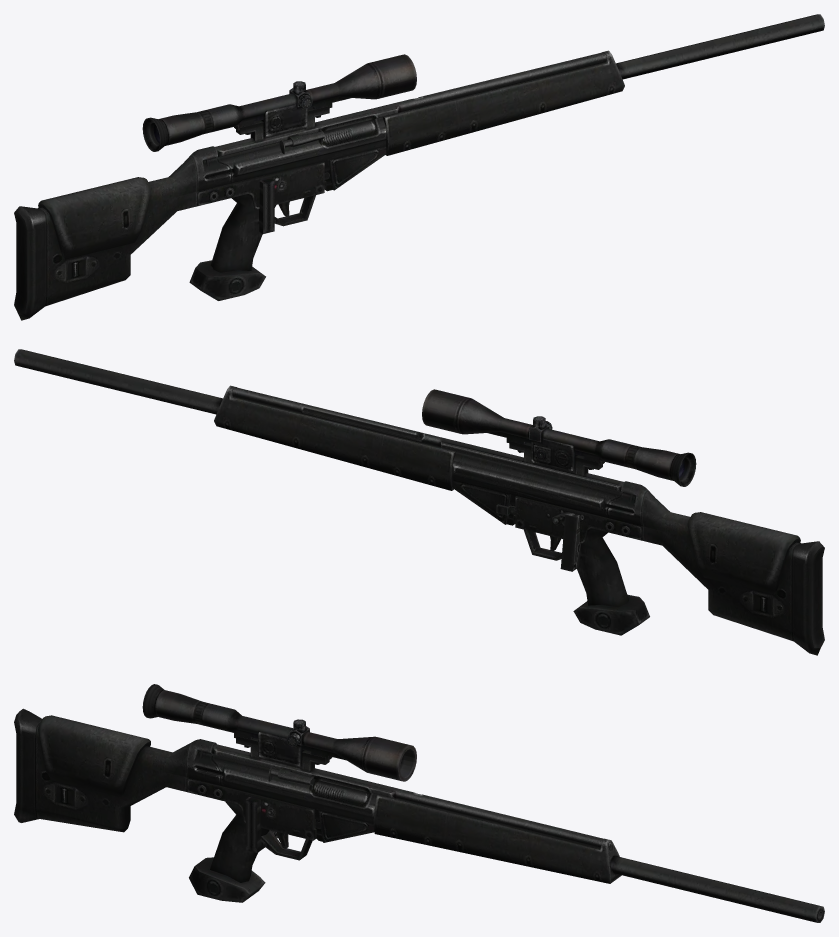
File: HK-PSG1.obj
3 renders of one model, top to bottom at view 1: azimuth 30°, elevation 25°; view 2: azimuth 150°, elevation 25°; view 3: azimuth 330°, elevation 25°, orthographic.
Visible parts, largest first — view 1: Part_2, Part_3, Part_1; view 2: Part_2, Part_3, Part_1; view 3: Part_2, Part_3, Part_1.
Part boxes in pixels (x1,y1,x2,y2): Part_2: [14, 14, 824, 320]; Part_3: [142, 54, 416, 151]; Part_1: [259, 178, 274, 233]; Part_2: [14, 349, 824, 655]; Part_3: [422, 389, 696, 486]; Part_1: [560, 514, 580, 571]; Part_2: [14, 708, 824, 922]; Part_3: [142, 684, 416, 781]; Part_1: [245, 797, 277, 852].
Bounding box in the file's own units: 1.15 × 0.259 × 0.0594.
Materials: 2 (2 with a texture image).
